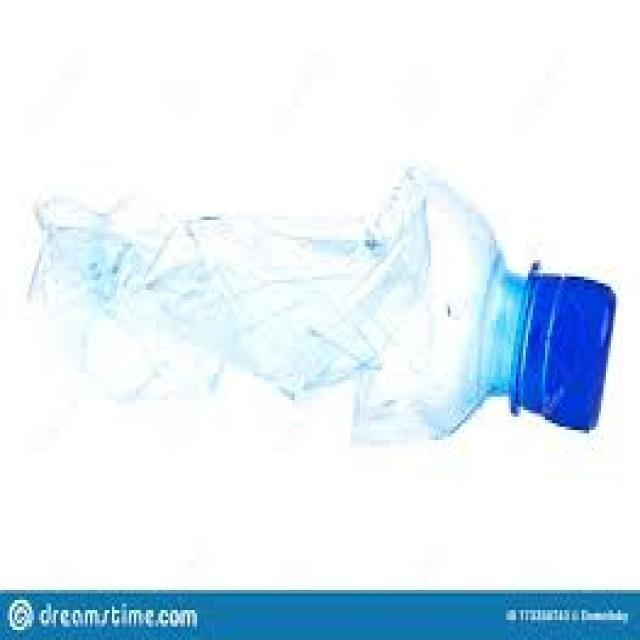Plastic: (23, 158, 621, 446)
